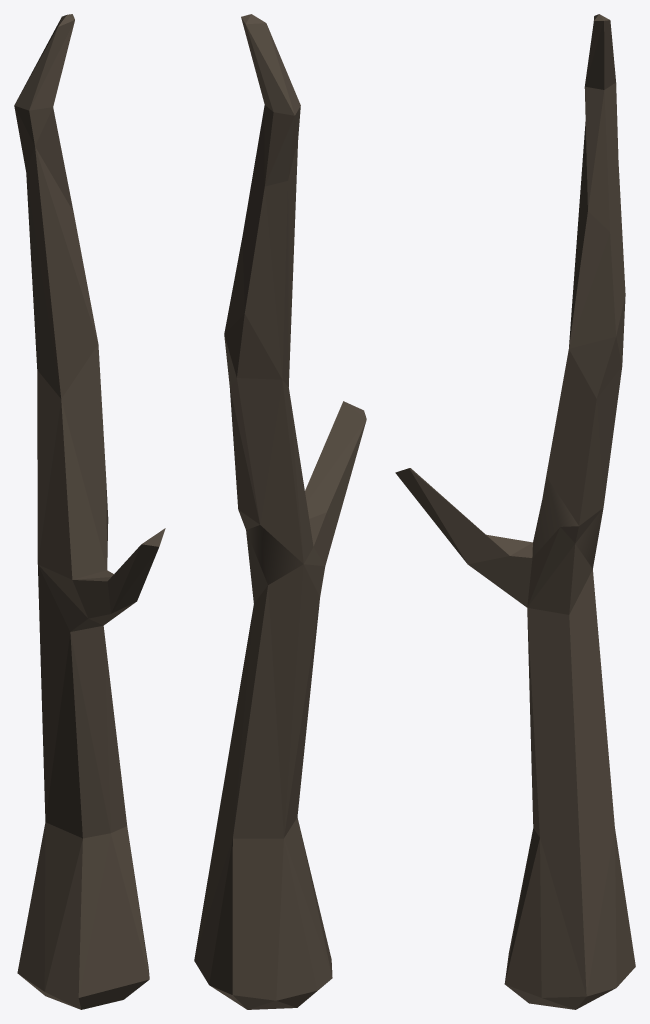
Rendered from SM_Env_Tree_Dead_02.glb.
The picture shows the model from 3 angles, left to right: view 1: azimuth 30°, elevation 25°; view 2: azimuth 150°, elevation 25°; view 3: azimuth 270°, elevation 25°; orthographic projection. The views are drawn at different scales.
Visible parts, largest first — view 1: SM_Env_Tree_Dead_02; view 2: SM_Env_Tree_Dead_02; view 3: SM_Env_Tree_Dead_02.
Boxes of the visible parts, x1,y1,x2,y2 form: SM_Env_Tree_Dead_02: (14,14,165,1009); SM_Env_Tree_Dead_02: (194,14,366,1009); SM_Env_Tree_Dead_02: (395,14,635,1009).
Size of the model in its own units: 0.8322 by 6.45 by 1.44.
1 material, 1 textured.
